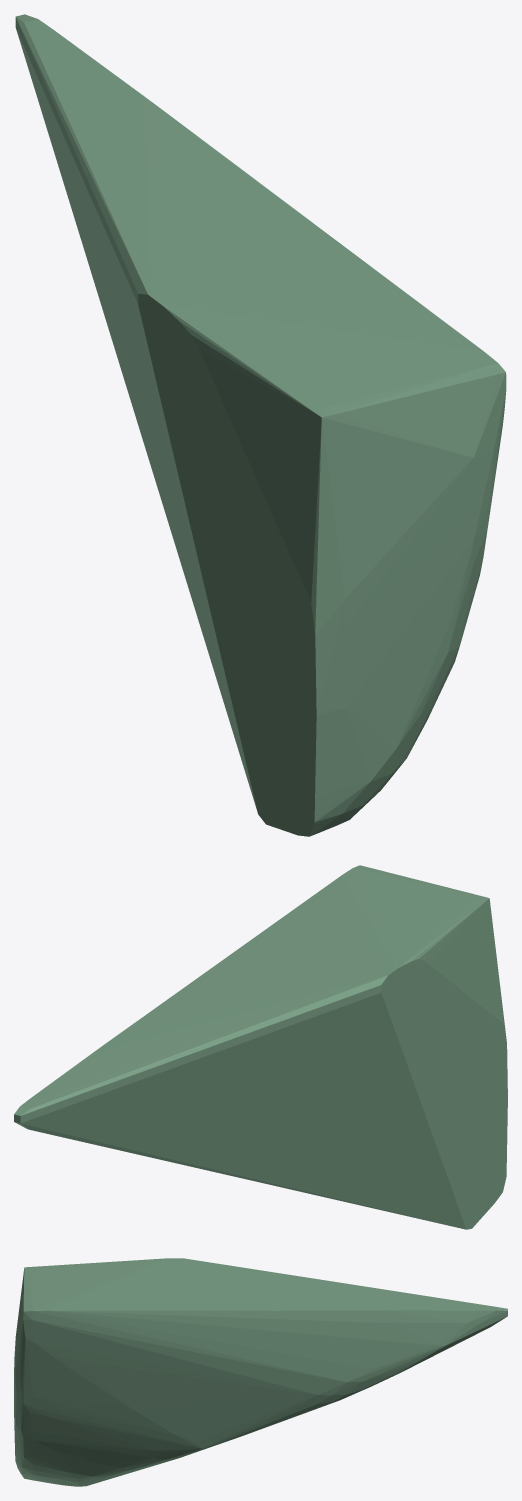
3 renders of one model, top to bottom at view 1: azimuth 30°, elevation 25°; view 2: azimuth 150°, elevation 25°; view 3: azimuth 270°, elevation 25°, orthographic. The views are drawn at different scales.
Bounding box in the file's own units: 0.0271 × 0.0491 × 0.0992.
